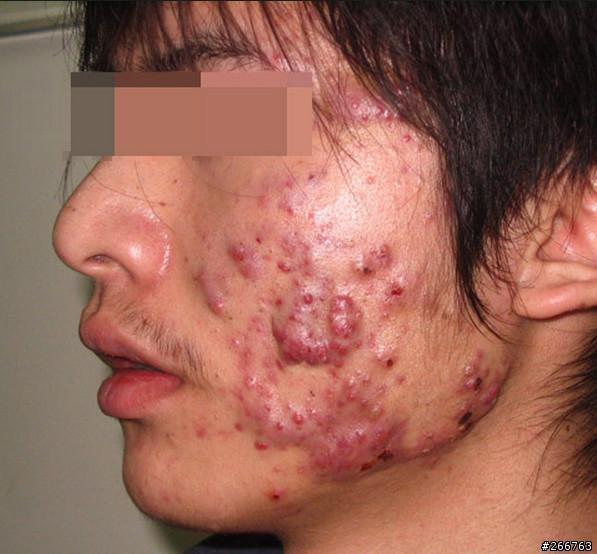fore: (413, 418, 446, 467), (316, 314, 362, 344), (238, 306, 268, 346), (378, 279, 410, 316), (441, 371, 478, 403), (330, 91, 367, 122), (239, 256, 273, 289), (339, 251, 368, 285), (308, 443, 335, 479), (239, 364, 265, 401), (245, 400, 273, 434), (285, 331, 314, 362), (355, 392, 384, 423), (254, 172, 287, 197), (367, 242, 394, 272), (269, 310, 295, 341), (276, 192, 301, 224), (277, 402, 302, 432), (318, 299, 361, 316), (418, 208, 446, 234), (204, 282, 225, 316), (248, 427, 274, 454), (295, 241, 320, 268), (306, 349, 334, 373), (228, 239, 255, 263), (336, 368, 360, 394), (263, 482, 291, 504), (334, 432, 358, 457), (296, 285, 320, 310), (307, 402, 328, 430), (274, 231, 297, 256), (324, 387, 347, 412), (453, 365, 491, 380), (232, 330, 252, 358), (450, 412, 472, 437), (229, 415, 252, 438), (396, 128, 420, 150), (195, 262, 215, 288), (373, 425, 393, 451), (291, 454, 312, 478), (213, 422, 234, 445), (393, 369, 416, 390), (481, 379, 501, 403), (289, 431, 313, 451), (390, 75, 414, 94), (275, 256, 296, 277), (467, 345, 490, 364), (189, 422, 213, 440), (270, 459, 292, 478), (161, 430, 184, 446), (497, 351, 517, 369), (355, 424, 372, 445), (199, 230, 217, 249), (204, 517, 224, 534), (394, 102, 408, 126), (397, 159, 414, 177), (361, 171, 378, 188), (368, 100, 382, 119), (160, 491, 176, 507), (150, 449, 168, 463), (133, 437, 147, 452), (327, 273, 339, 290), (382, 103, 394, 119), (377, 357, 388, 369), (361, 112, 368, 123)
